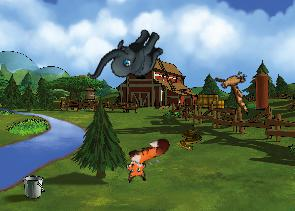eagle: (206, 61, 264, 115)
elephant: (88, 14, 169, 101)
fox: (117, 135, 178, 186)
